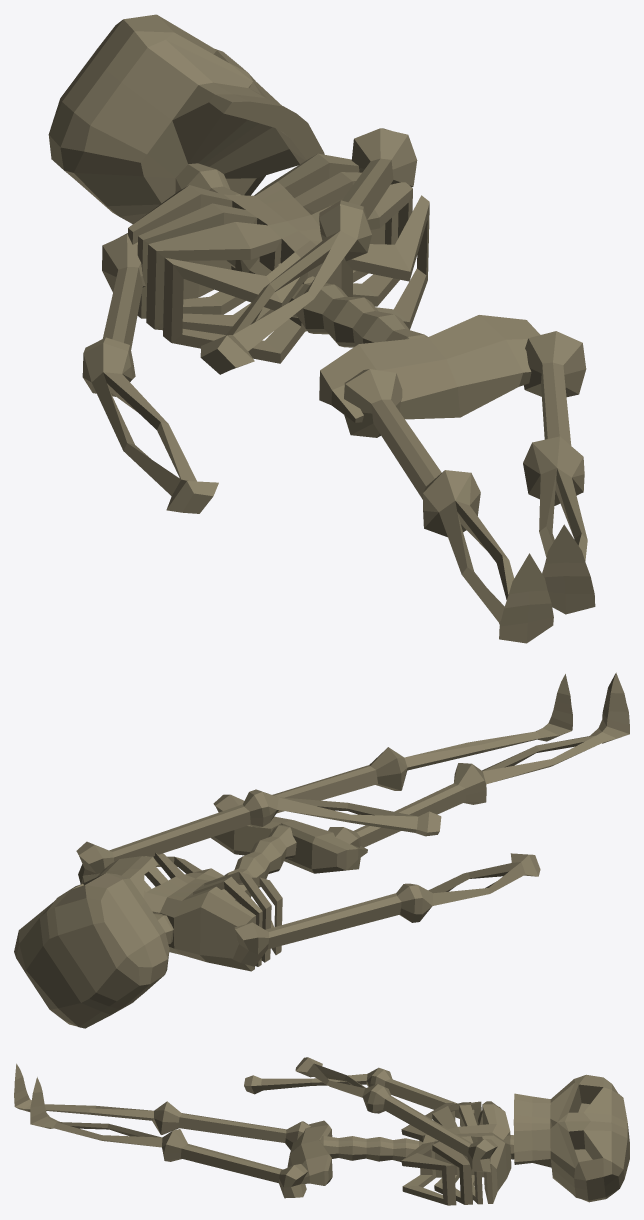
Rendered from SkeletonLay.fbx.
3 views of the same model, one above another, from view 1: azimuth 30°, elevation 25°; view 2: azimuth 150°, elevation 25°; view 3: azimuth 270°, elevation 25° (orthographic). The views are drawn at different scales.
Visible parts, largest first — view 1: Cube.002; view 2: Cube.002; view 3: Cube.002.
Part boxes in pixels (box(x1,y1,x2,y2)): Cube.002: box(48, 14, 595, 643); Cube.002: box(14, 672, 629, 1028); Cube.002: box(14, 1057, 629, 1205).
Bounding box in the file's own units: 0.7663 × 0.3512 × 1.75.
